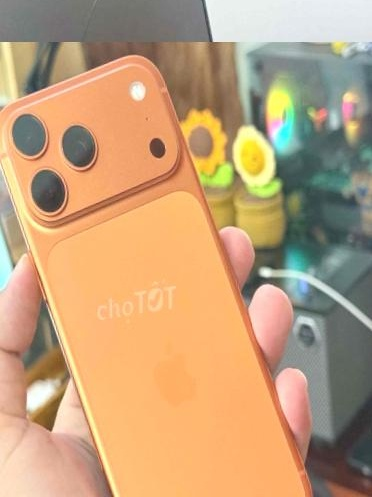physical_damage: (0, 0, 221, 42)
scratch: (0, 42, 329, 497)
